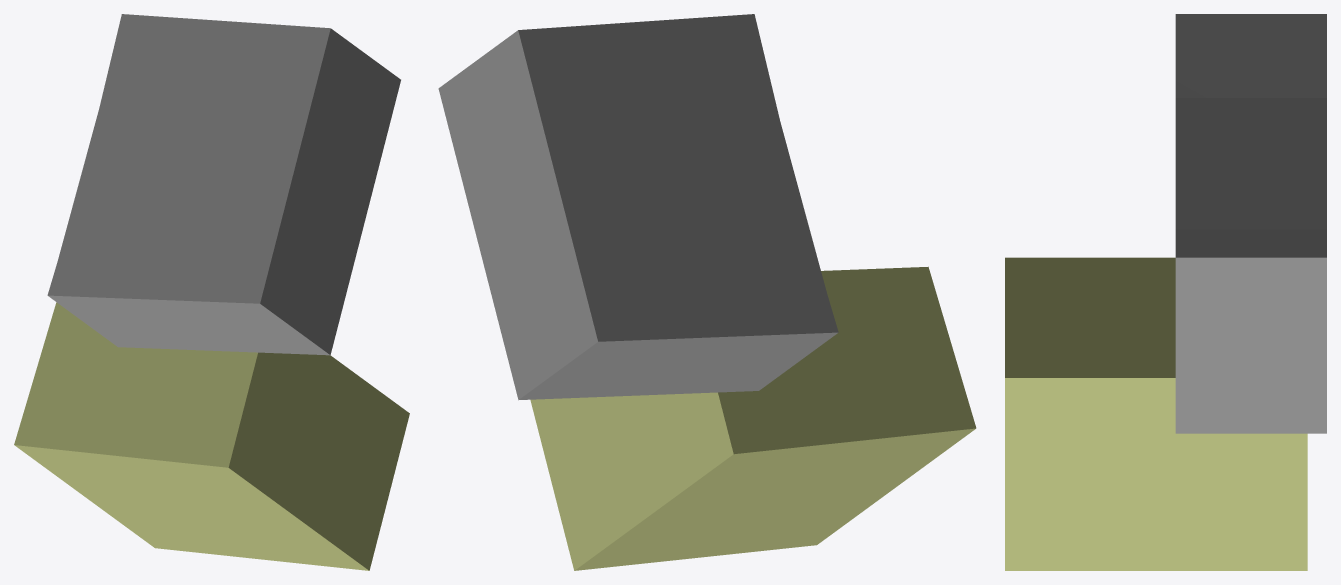
3 views of the same model, side by side, from view 1: azimuth 30°, elevation 25°; view 2: azimuth 150°, elevation 25°; view 3: azimuth 270°, elevation 25° (orthographic). The views are drawn at different scales.
Parts seen in each view (by area): view 1: 0_1_2_0_1_3_0_2_3_3_3; view 2: 0_1_2_0_1_3_0_2_3_3_3; view 3: 0_1_2_0_1_3_0_2_3_3_3.
Boxes of the visible parts, <box> form: 0_1_2_0_1_3_0_2_3_3_3: <box>14,14,409,570</box>; 0_1_2_0_1_3_0_2_3_3_3: <box>438,14,976,570</box>; 0_1_2_0_1_3_0_2_3_3_3: <box>1005,14,1326,570</box>.
Bounding box in the file's own units: 8 × 11.06 × 6.38.
